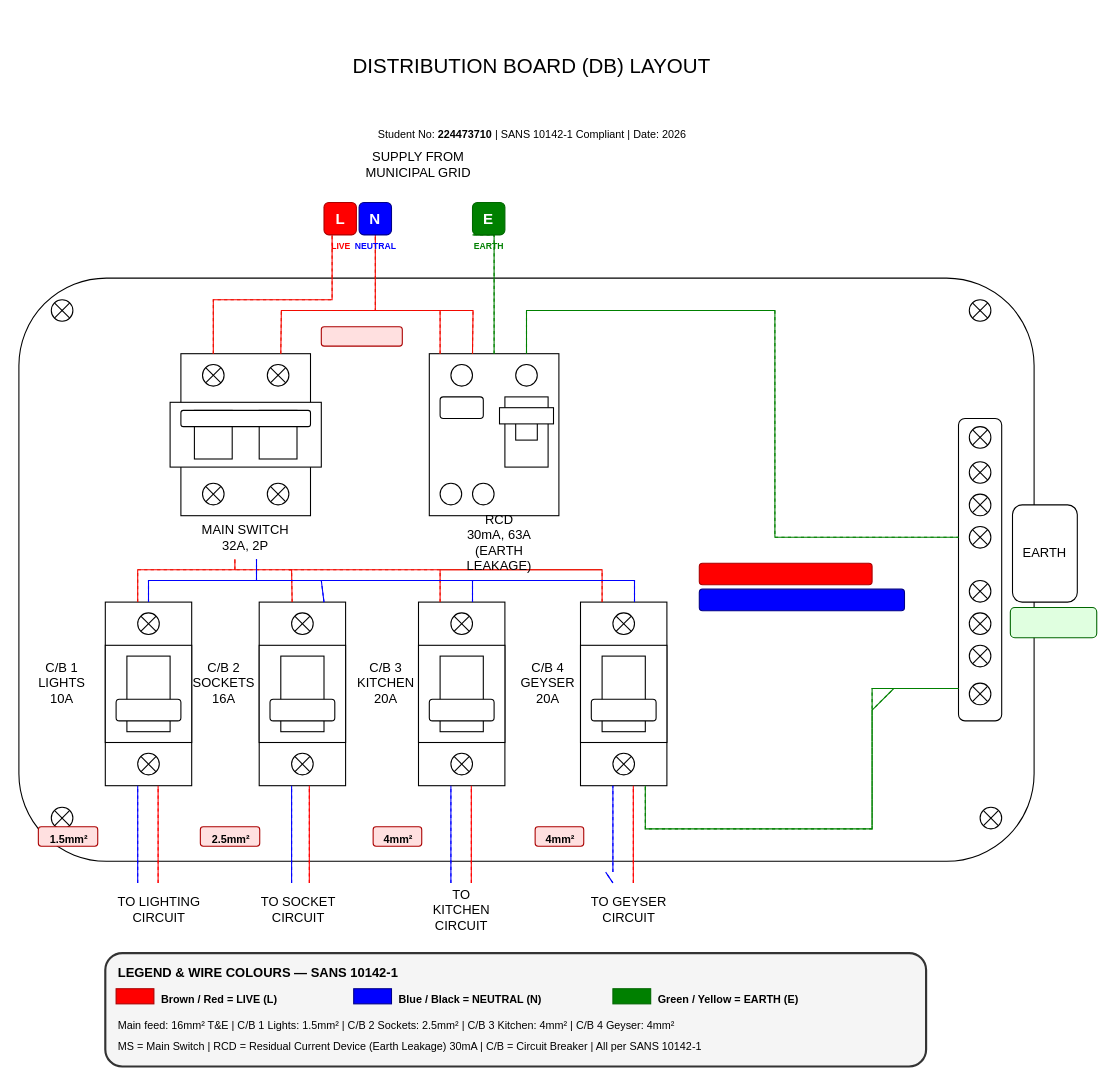
Some shapes in this 1116 by 1085 pixel diagram are drawn without their labels. The centre of each missing label's shape, as x and y in pixels:
"16mm² T&E" goes at pixel 361 336.
"LIVE BUSBAR (L) — RED" goes at pixel 785 573.
"NEUTRAL BUSBAR (N) — BLUE" goes at pixel 801 599.
"⏚ TO EARTH ELECTRODE" goes at pixel 1053 622.
